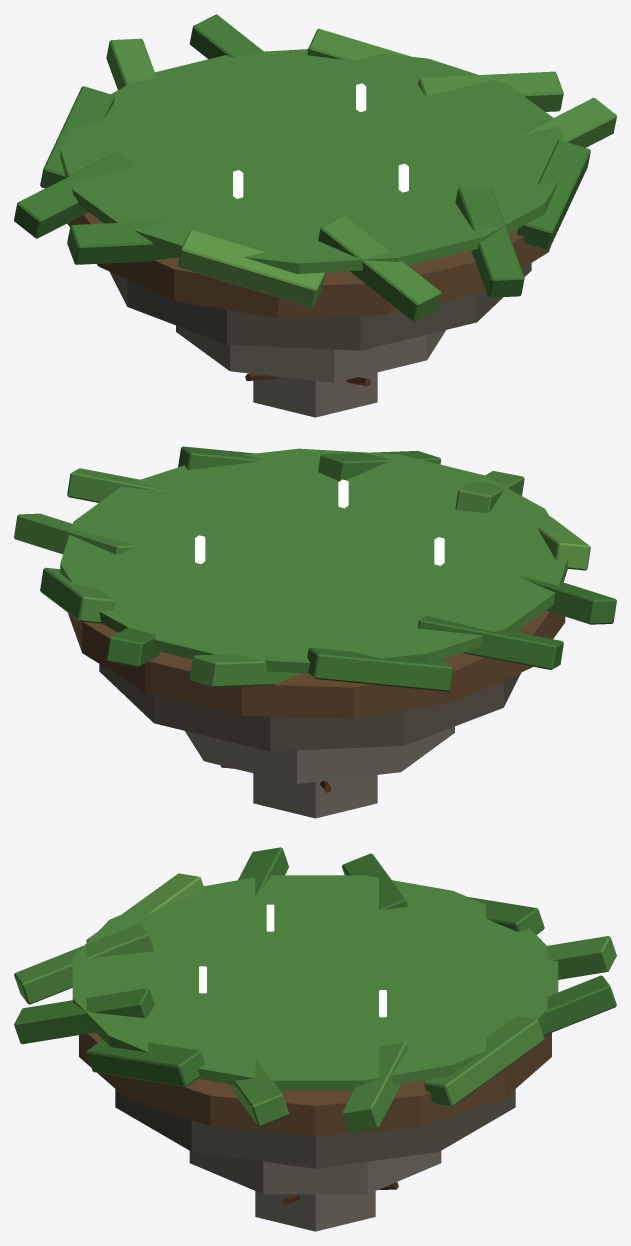
The model's file is Isle.glb.
3 renders of one model, top to bottom at view 1: azimuth 30°, elevation 25°; view 2: azimuth 150°, elevation 25°; view 3: azimuth 270°, elevation 25°, orthographic. The views are drawn at different scales.
Visible parts, largest first — view 1: Body, Glow; view 2: Body, Glow; view 3: Body, Glow.
Part boxes in pixels (x1,y1,x2,y2): Body: (14, 14, 616, 417); Glow: (233, 83, 408, 198); Body: (14, 446, 616, 818); Glow: (195, 479, 444, 565); Body: (14, 847, 616, 1231); Glow: (199, 904, 386, 1017).
Size of what is drawn, in the model's own units: 53.56 by 24.4 by 53.56.
